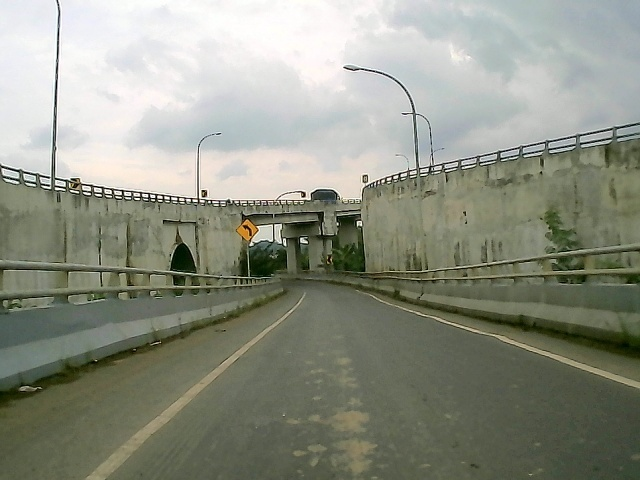Tikungan ke kiri: (234, 217, 261, 244)
